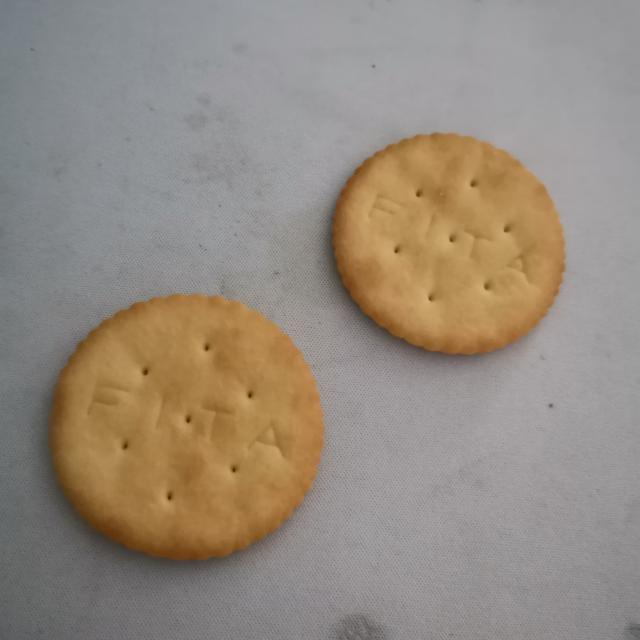Intact: (33, 279, 332, 572), (323, 123, 576, 367)
